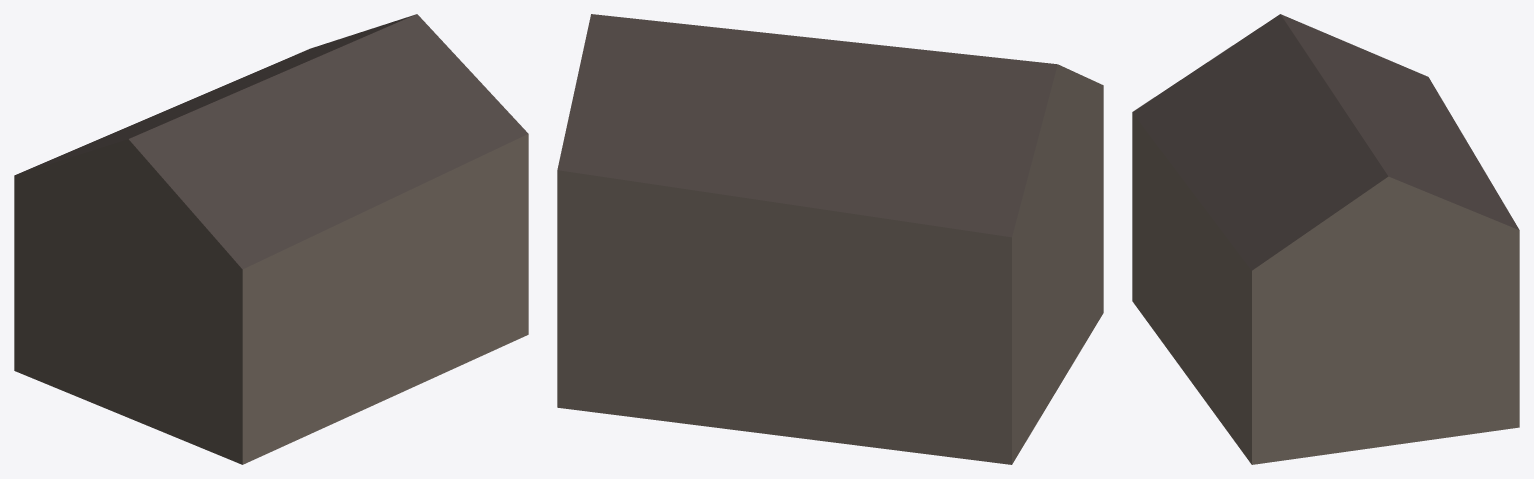
3 renders of one model, left to right at view 1: azimuth 30°, elevation 25°; view 2: azimuth 150°, elevation 25°; view 3: azimuth 270°, elevation 25°, orthographic. The views are drawn at different scales.
Visible parts, largest first — view 1: HP-w1196657313; view 2: HP-w1196657313; view 3: HP-w1196657313.
Boxes of the visible parts, left/top/right/bottom form: HP-w1196657313: left=14, top=14, right=528, bottom=464; HP-w1196657313: left=557, top=14, right=1103, bottom=464; HP-w1196657313: left=1132, top=14, right=1519, bottom=464.
Bounding box in the file's own units: 13.58 × 8.56 × 11.16.
